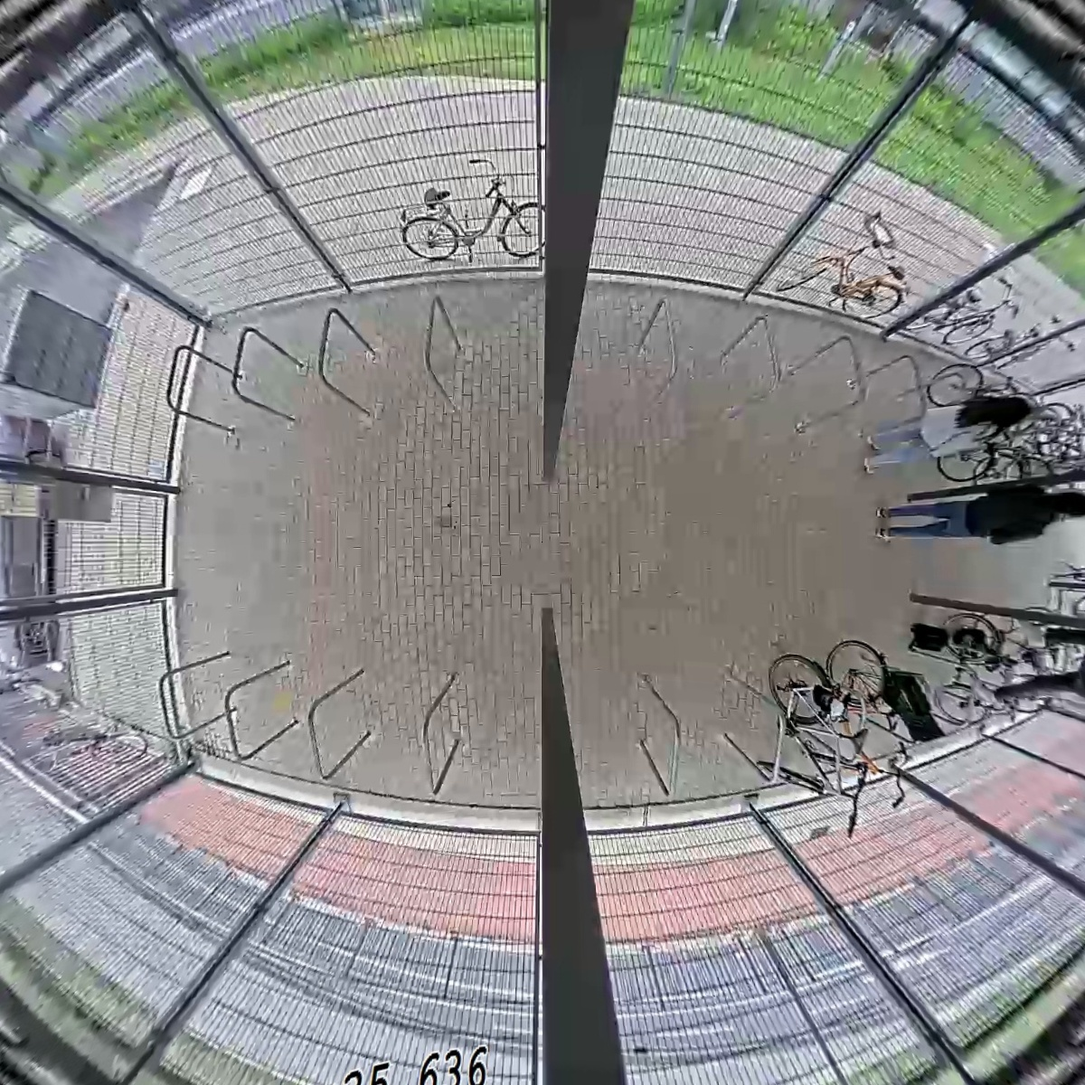bicylce: (755, 645, 868, 834), (812, 638, 900, 829), (922, 352, 1022, 484), (928, 602, 1010, 736)
saddle: (877, 703, 904, 743), (840, 725, 872, 754), (1022, 645, 1044, 675), (1048, 641, 1064, 670), (1070, 638, 1082, 659)
